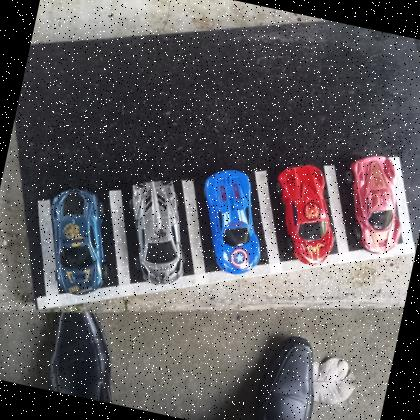Car: (112, 173, 202, 290), (188, 164, 278, 279), (34, 185, 121, 302), (260, 158, 348, 271), (334, 149, 416, 257)
